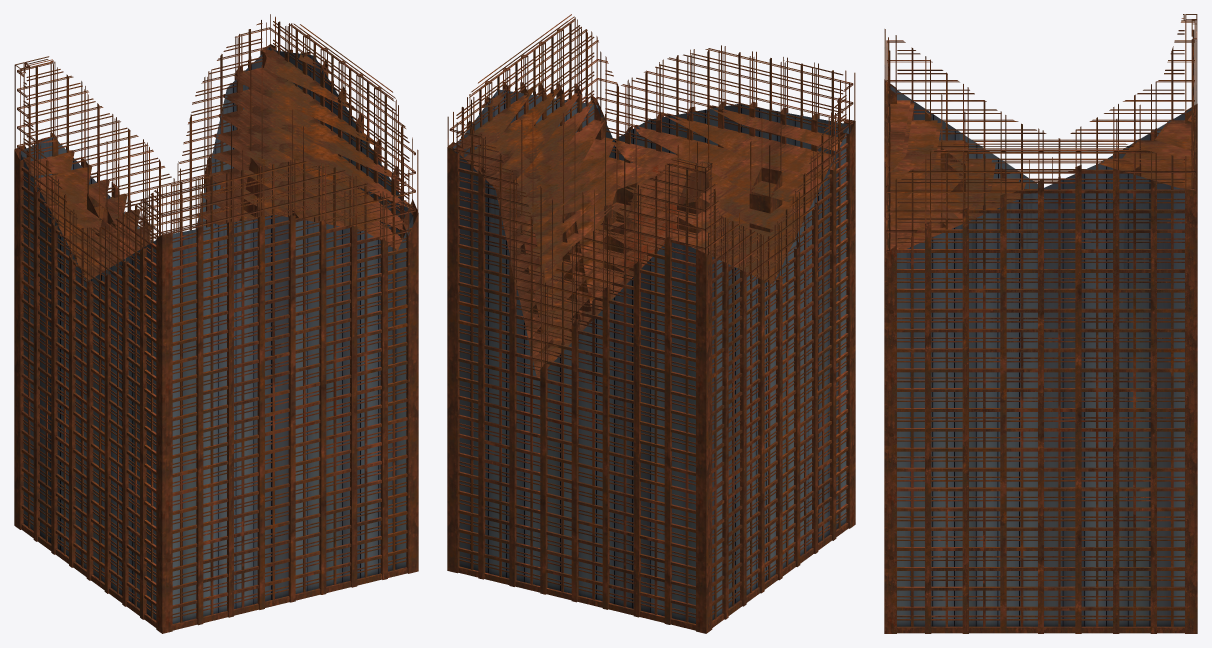
The model's file is tower_majadroid_01.glb.
3 views of the same model, side by side, from view 1: azimuth 30°, elevation 25°; view 2: azimuth 150°, elevation 25°; view 3: azimuth 270°, elevation 25° (orthographic). The views are drawn at different scales.
Visible parts, largest first — view 1: tower_majadroid_01; view 2: tower_majadroid_01; view 3: tower_majadroid_01.
Part boxes in pixels (x1,y1,x2,y2): tower_majadroid_01: [14, 14, 418, 633]; tower_majadroid_01: [447, 14, 855, 633]; tower_majadroid_01: [884, 14, 1197, 633].
Size of the model in its own units: 50 by 85.94 by 50.
Materials: 2 (2 with a texture image).
